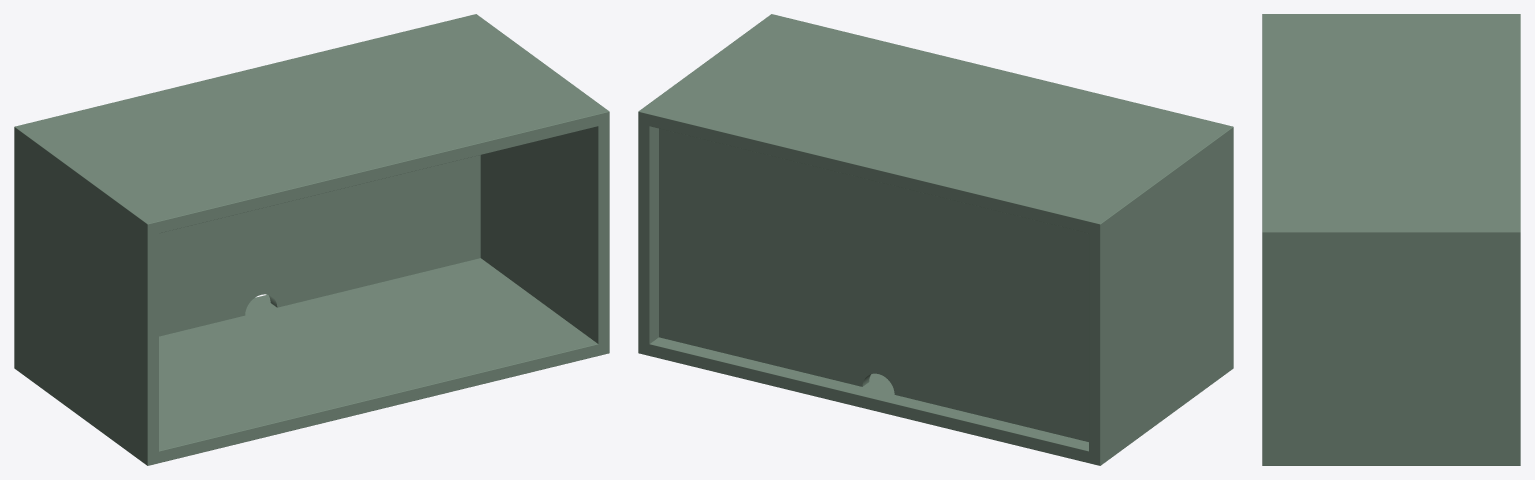
File: MOD_2X1_A_B_AP_VA.glb
3 views of the same model, side by side, from view 1: azimuth 30°, elevation 25°; view 2: azimuth 150°, elevation 25°; view 3: azimuth 270°, elevation 25° (orthographic). The views are drawn at different scales.
Size of the model in its own units: 720 by 360 by 360.
